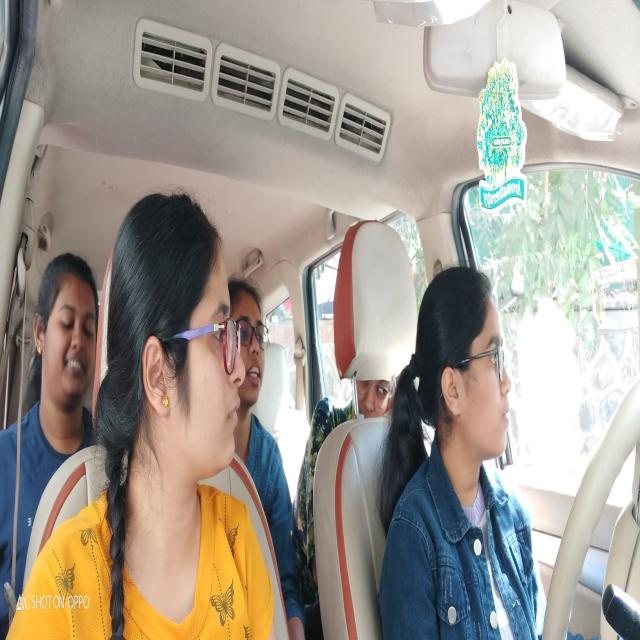LeftRight: (417, 262, 515, 478)
person: (107, 186, 243, 478), (32, 247, 100, 414), (230, 282, 270, 406), (354, 368, 398, 429)
